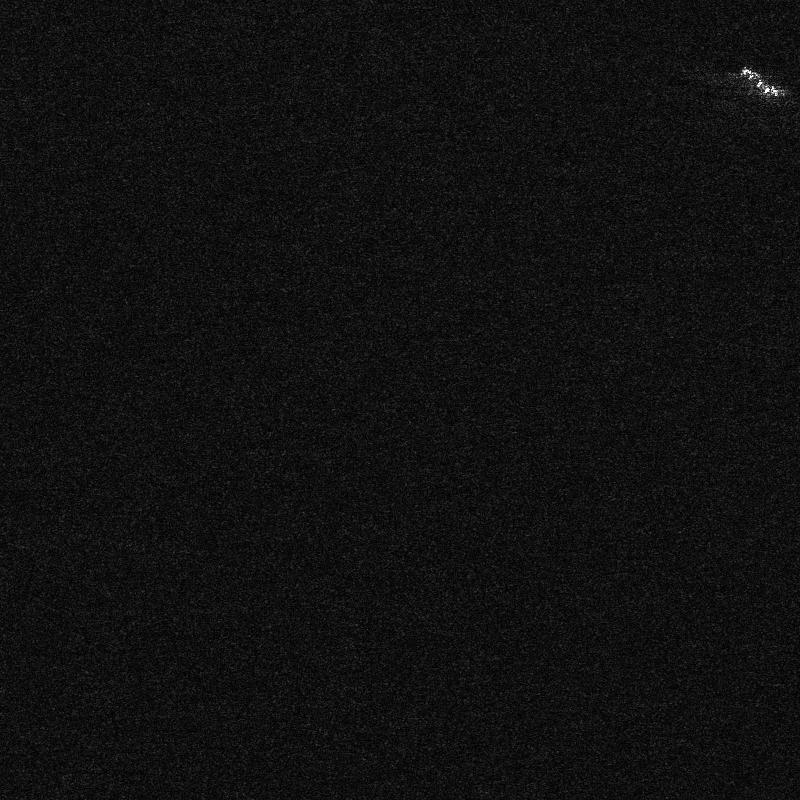ship: (740, 66, 782, 97)
